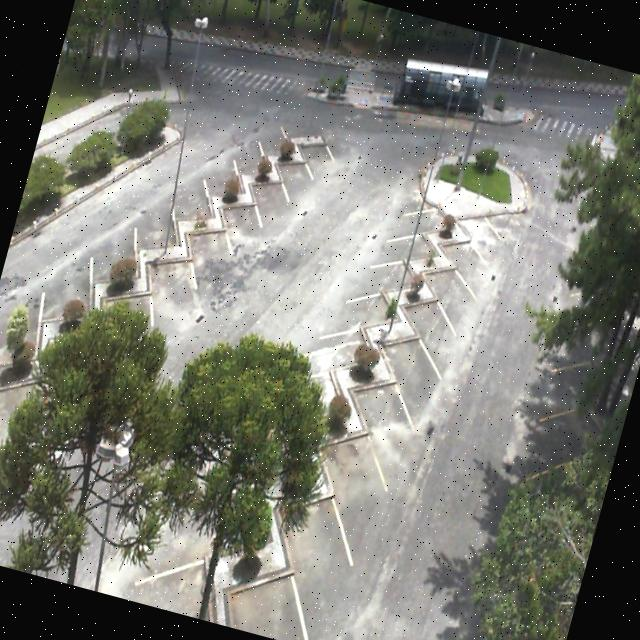empty: (262, 476, 371, 612), (121, 520, 237, 623), (303, 410, 399, 532), (223, 529, 326, 640), (341, 360, 427, 460), (36, 226, 107, 326), (364, 312, 444, 400), (83, 190, 155, 284), (297, 300, 378, 380), (136, 230, 202, 319), (127, 168, 193, 256), (395, 274, 469, 352), (179, 200, 238, 280), (338, 262, 408, 329), (209, 173, 269, 248), (418, 241, 484, 308), (350, 232, 421, 294), (167, 156, 226, 228), (438, 218, 500, 278), (383, 208, 446, 264), (200, 134, 253, 200), (245, 157, 299, 220), (268, 130, 322, 193), (456, 198, 514, 255), (228, 120, 280, 182), (253, 100, 304, 163), (394, 180, 454, 232), (294, 118, 340, 176)
